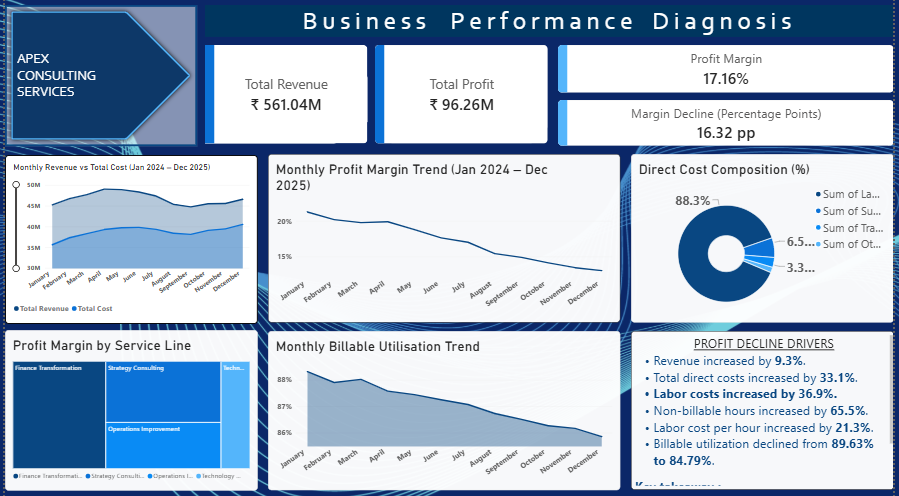

This screenshot's page, from the dashboard's own definition file:
{"tool":"powerbi","page":{"name":"Page 1","canvas":[1920,1080],"ordinal":0},"visuals":[{"type":"cardVisual","title":"Total Revenue","fields":{"Data":["Raw_Data.Total Revenue"]},"box":[432,86.4,373.7,250.6],"z":0},{"type":"cardVisual","title":"Total Profit","fields":{"Data":["Raw_Data.Total Profit"]},"box":[799.2,86.4,395.3,250.6],"z":1000},{"type":"cardVisual","title":"Profit Margin","fields":{"Data":["Raw_Data.Profit Margin"]},"box":[1194.5,86.4,725.8,118.8],"z":2000},{"type":"cardVisual","title":"Margin Decline (Percentage Points)","fields":{"Data":["Raw_Data.Margin Decline (pp)"]},"box":[1194.5,205.2,725.8,114.5],"z":3000},{"type":"lineChart","title":"Monthly Revenue vs Total Cost (Jan 2024 – Dec 2025)","fields":{"Category":["Raw_Data.Month.Variation.Date Hierarchy.Month"],"Y":["Raw_Data.Total Revenue","Raw_Data.Total Cost"]},"box":[0,339.1,546.5,365],"z":4000},{"type":"lineChart","title":"Monthly Profit Margin Trend (Jan 2024 – Dec 2025)","fields":{"Category":["Raw_Data.Month.Variation.Date Hierarchy.Month"],"Y":["Raw_Data.Profit Margin"]},"box":[567.6,338,761.1,363.5],"z":5000},{"type":"treemap","title":"Profit Margin by Service Line","fields":{"Group":["Raw_Data.Service_Line"],"Values":["Raw_Data.Profit Margin"]},"box":[0,716.5,546.4,346.5],"z":6000},{"type":"donutChart","title":"Direct Cost Composition (%)","fields":{"Y":["Sum(Raw_Data.Labor_Cost_INR)","Sum(Raw_Data.Subcontractor_Cost_INR)","Sum(Raw_Data.Travel_Cost_INR)","Sum(Raw_Data.Other_Direct_Cost_INR)"]},"box":[1352.1,338,567.6,363.5],"z":7000},{"type":"stackedAreaChart","title":"Monthly Billable Utilisation Trend","fields":{"Category":["Raw_Data.Month.Variation.Date Hierarchy.Month"],"Y":["Raw_Data.Billable Utilisation"]},"box":[567.6,718.6,761.1,344.4],"z":8000},{"type":"textbox","box":[1352.2,719.3,568.1,343.4],"z":9000},{"type":"actionButton","box":[0,15.1,414.7,304.6],"z":10000},{"type":"textbox","box":[432,15.1,1488.2,69.1],"z":11000}]}

Visuals, with their boxes in screenshot pixels (x1, y1, x2, y2), scaled from the page's 1920x1080 canvas onto the 899x496 screenshot:
"Total Revenue" cardVisual: 202 40 377 155
"Total Profit" cardVisual: 374 40 559 155
"Profit Margin" cardVisual: 559 40 898 94
"Margin Decline (Percentage Points)" cardVisual: 559 94 898 147
"Monthly Revenue vs Total Cost (Jan 2024 – Dec 2025)" lineChart: 0 156 256 323
"Monthly Profit Margin Trend (Jan 2024 – Dec 2025)" lineChart: 266 155 622 322
"Profit Margin by Service Line" treemap: 0 329 256 488
"Direct Cost Composition (%)" donutChart: 633 155 898 322
"Monthly Billable Utilisation Trend" stackedAreaChart: 266 330 622 488
textbox: 633 330 898 488
actionButton: 0 7 194 147
textbox: 202 7 898 39
